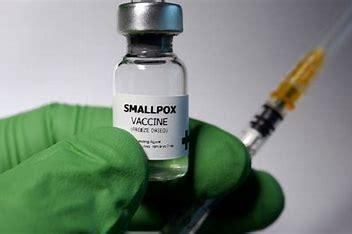Syringe: (105, 1, 197, 180)
